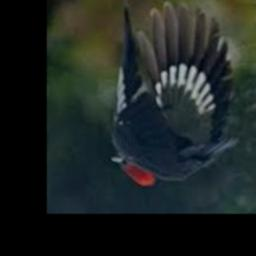Woodpecker: (111, 0, 239, 187)
